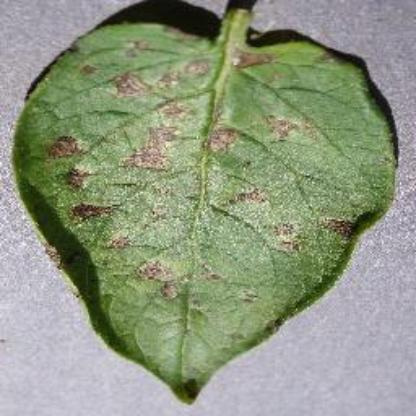Early-Blight: (14, 1, 394, 403)
